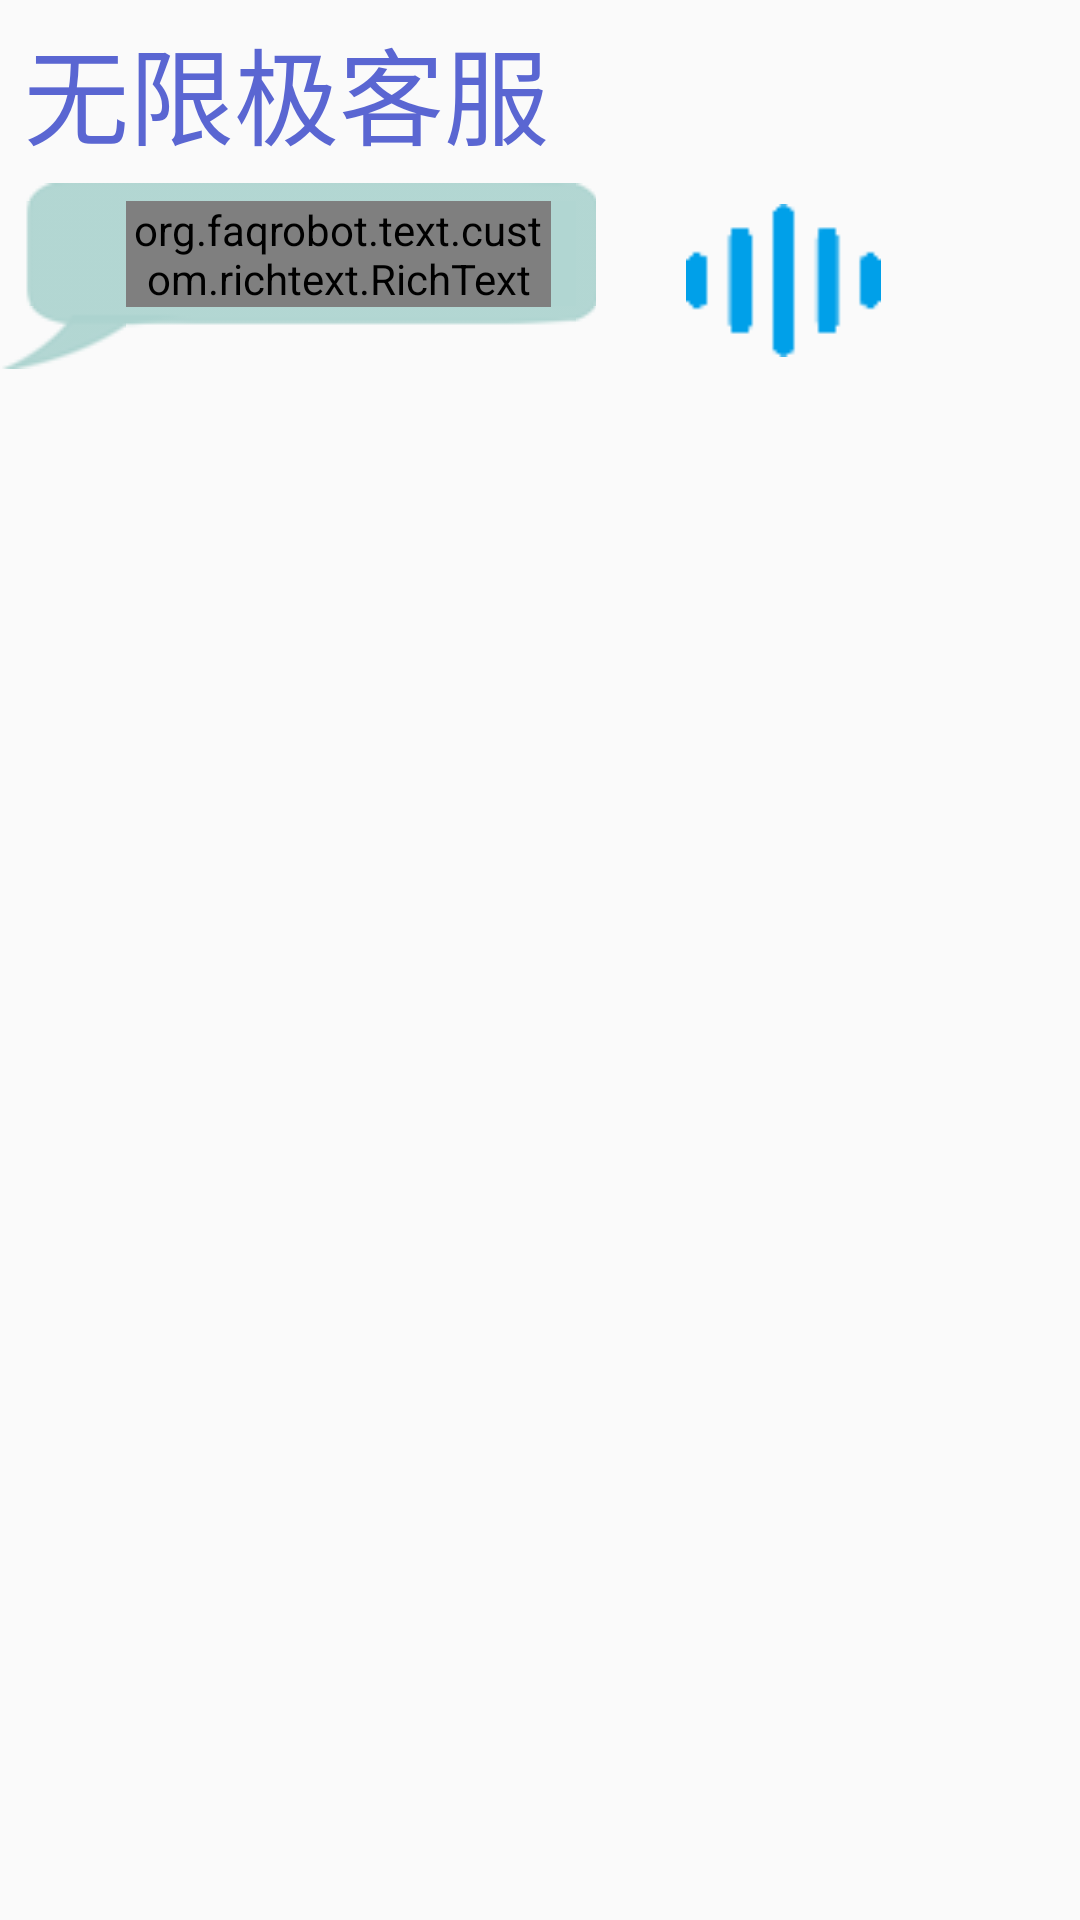

Where to tap for icons on this 1080px×1920px app screen, as [x,y]:
speaking: [783,280]
